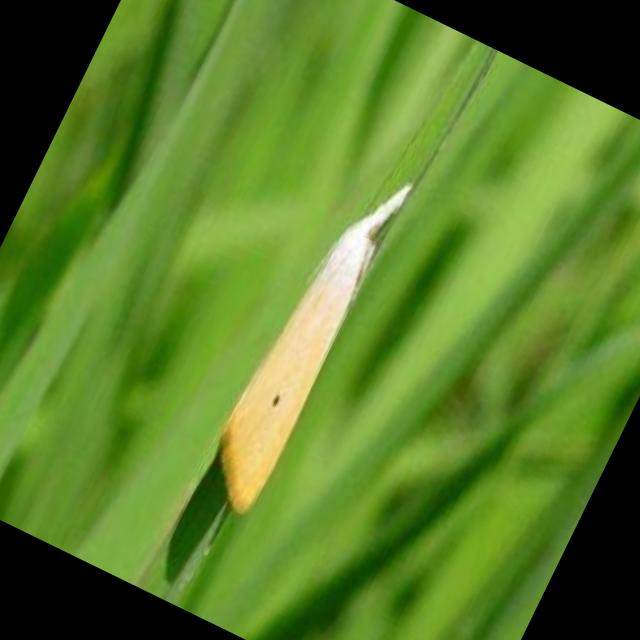stem-borer: (192, 152, 418, 521)
